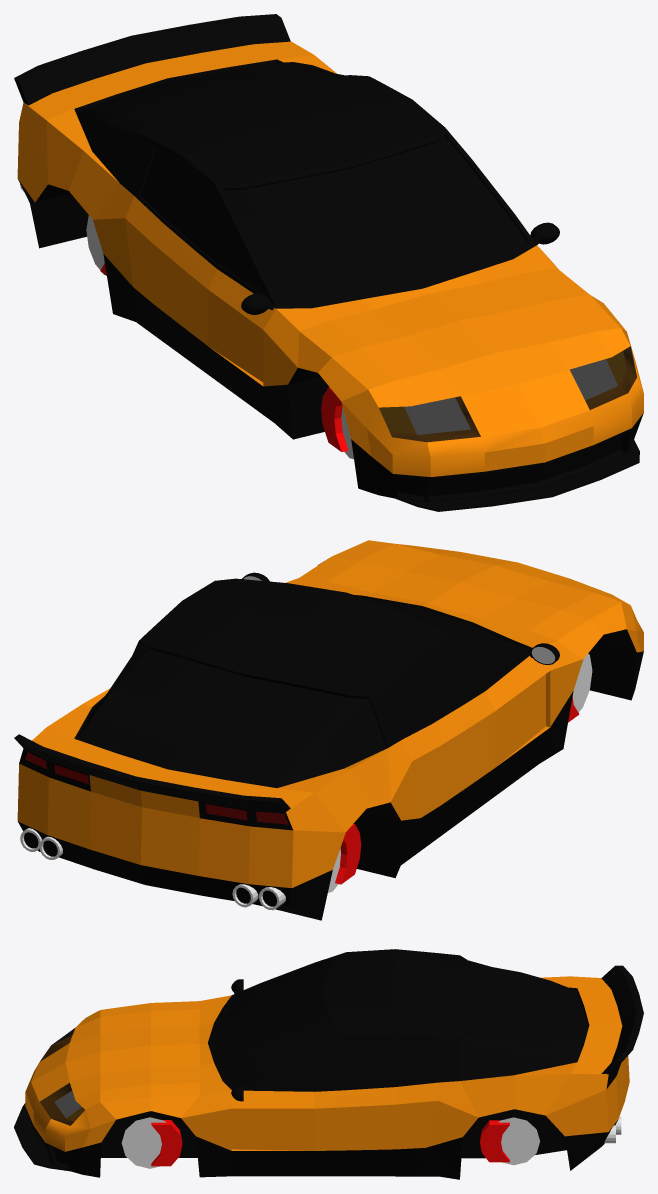
Rendered from carBody.glb.
The picture shows the model from 3 angles, top to bottom: view 1: azimuth 30°, elevation 25°; view 2: azimuth 150°, elevation 25°; view 3: azimuth 270°, elevation 25°; orthographic projection. The views are drawn at different scales.
Parts seen in each view (by area): view 1: Muscle car 2.Body; view 2: Muscle car 2.Body; view 3: Muscle car 2.Body.
Part boxes in pixels (x1,y1,x2,y2): Muscle car 2.Body: [14, 14, 643, 511]; Muscle car 2.Body: [14, 540, 643, 920]; Muscle car 2.Body: [14, 949, 643, 1179].
Bounding box in the file's own units: 135 × 77.11 × 313.
